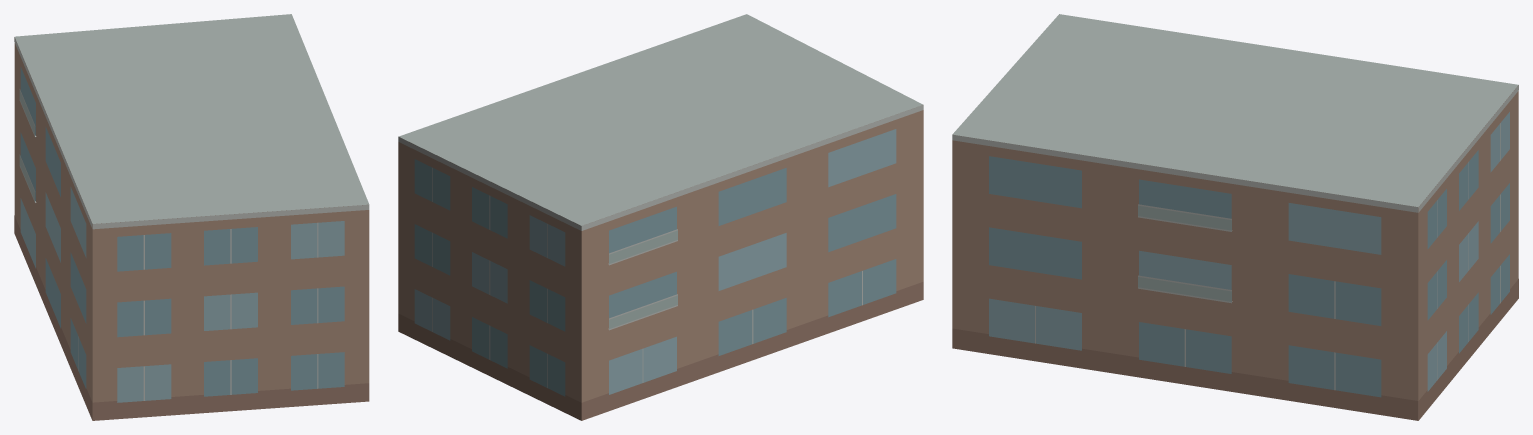
The model's file is survey-upis-32916661.glb.
3 views of the same model, side by side, from view 1: azimuth 30°, elevation 25°; view 2: azimuth 150°, elevation 25°; view 3: azimuth 270°, elevation 25° (orthographic). The views are drawn at different scales.
Parts seen in each view (by area): view 1: survey-upis-32916661.tmp; view 2: survey-upis-32916661.tmp; view 3: survey-upis-32916661.tmp.
Part boxes in pixels (<box>): survey-upis-32916661.tmp: <box>14,14,369,420</box>; survey-upis-32916661.tmp: <box>398,14,923,420</box>; survey-upis-32916661.tmp: <box>952,14,1518,420</box>.
Bounding box in the file's own units: 17.75 × 9.15 × 21.99.
